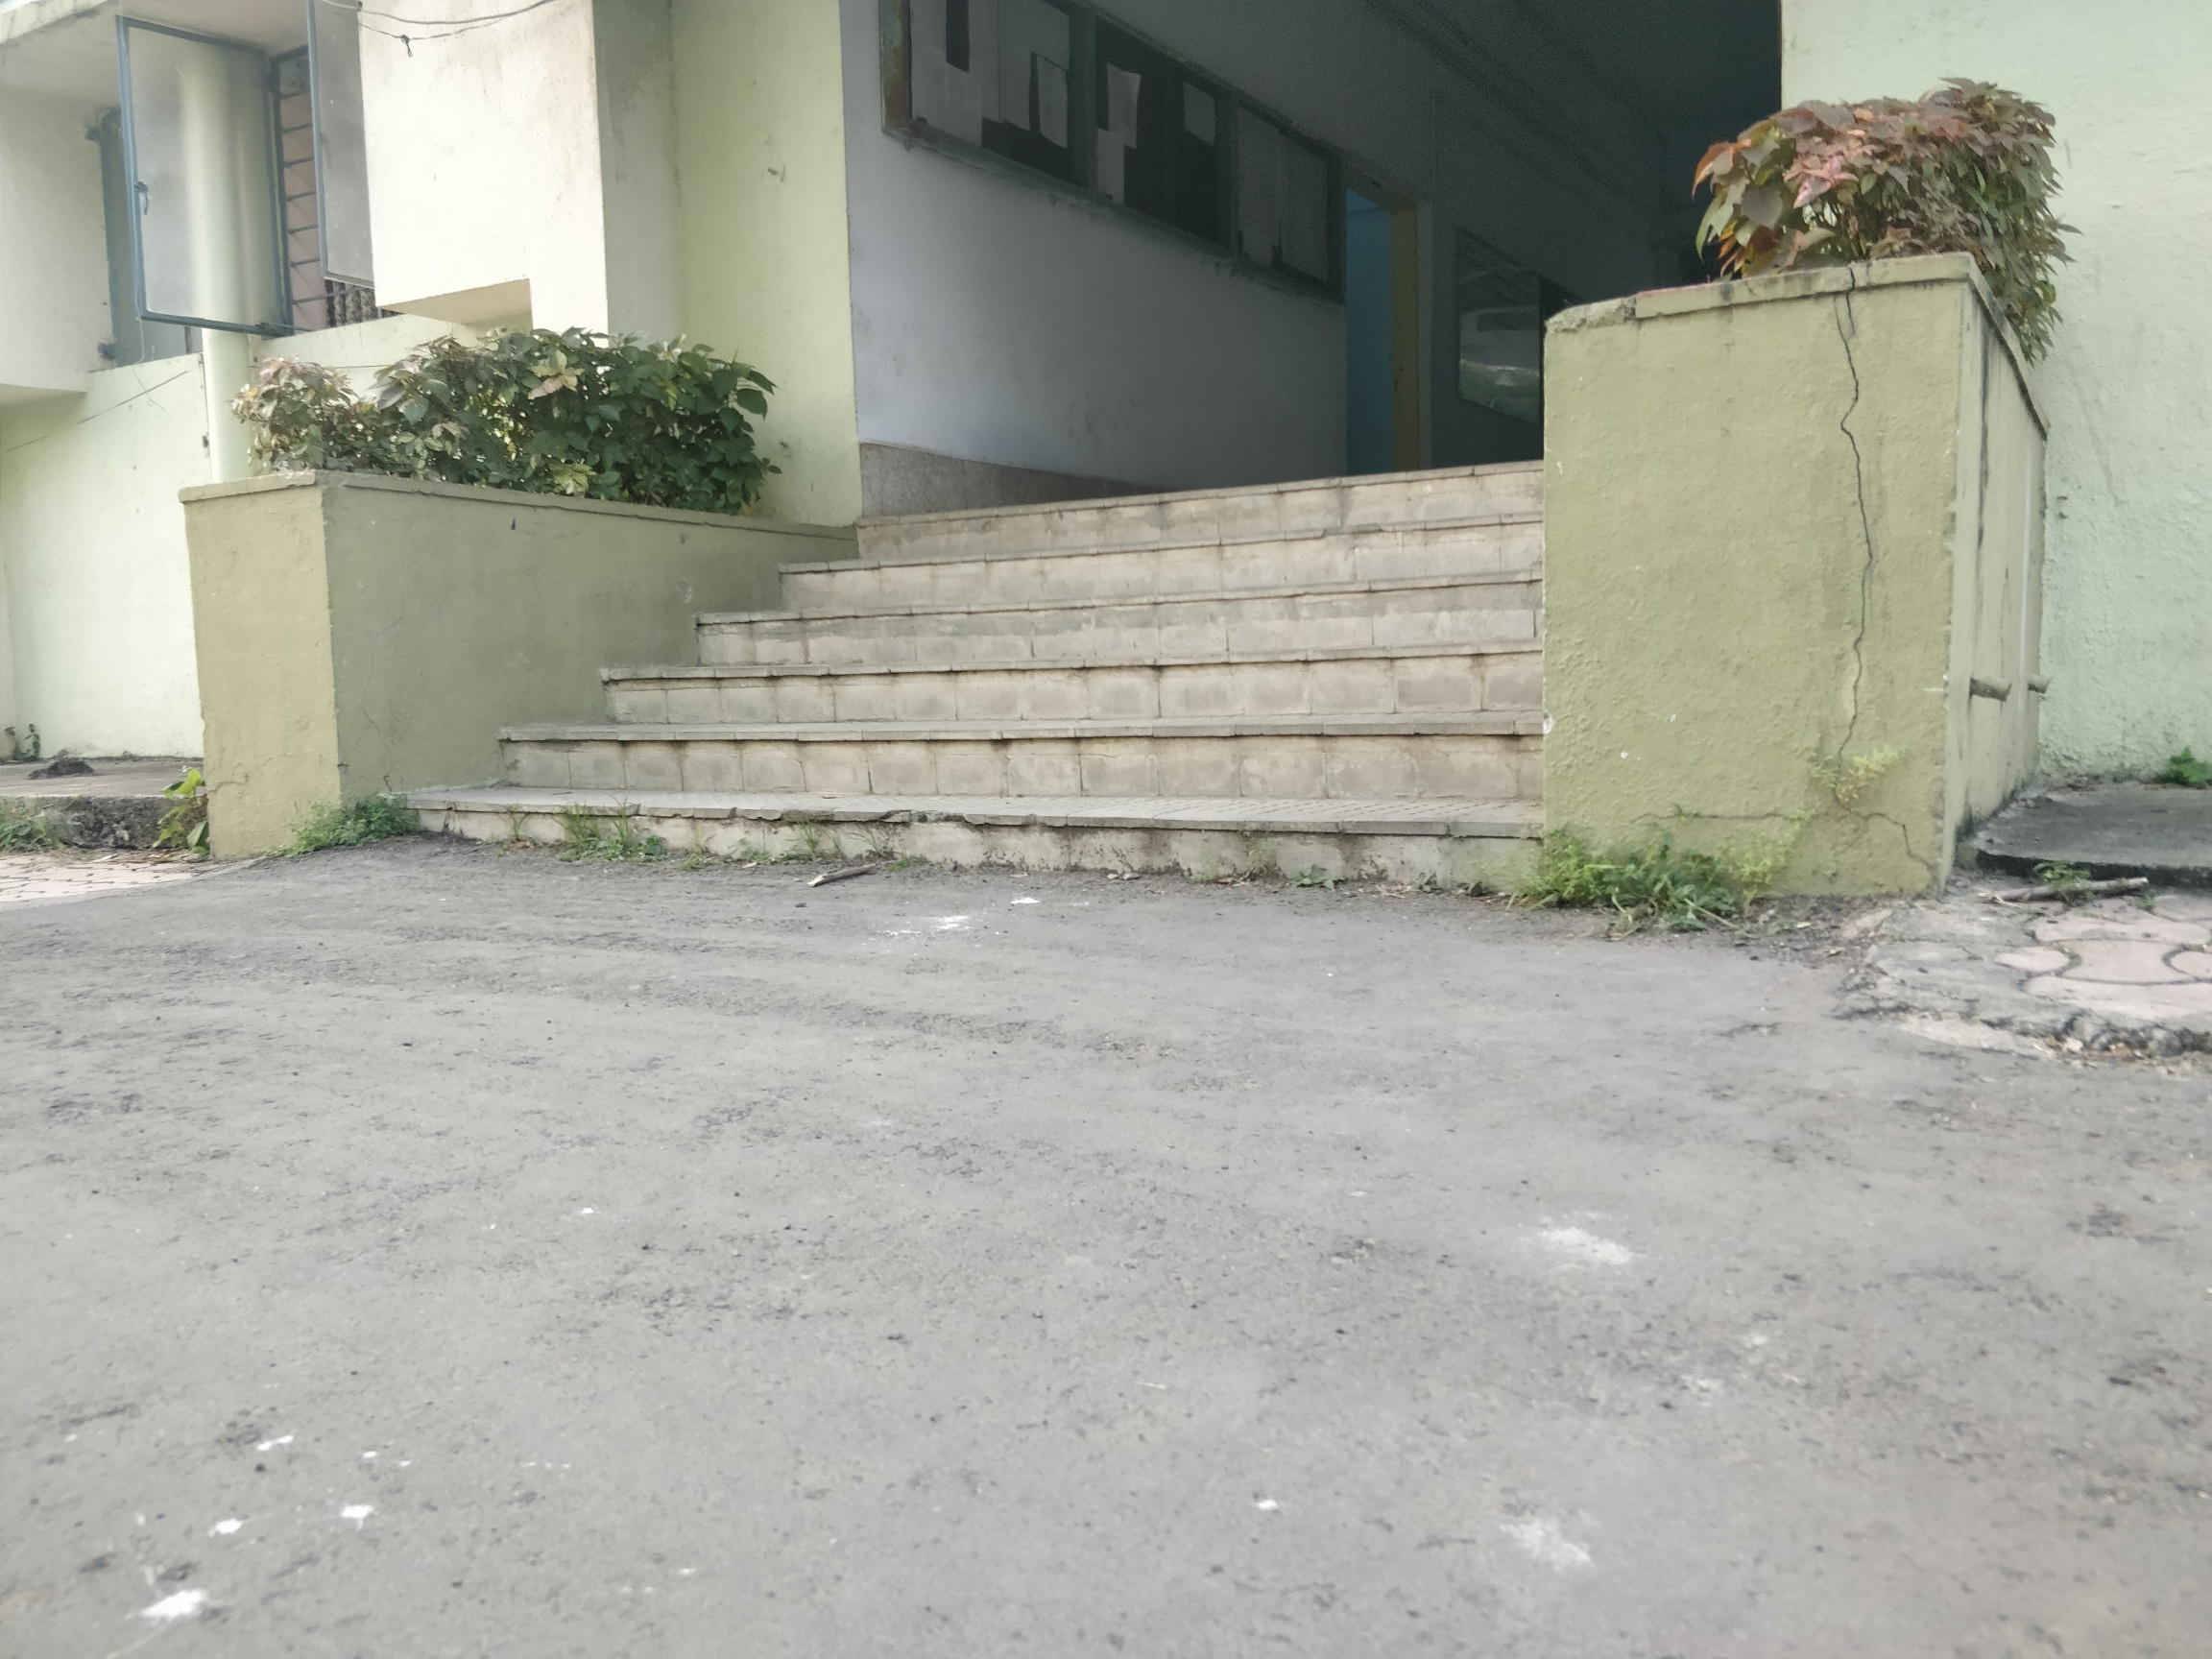stairs_up: (395, 455, 1538, 917)
